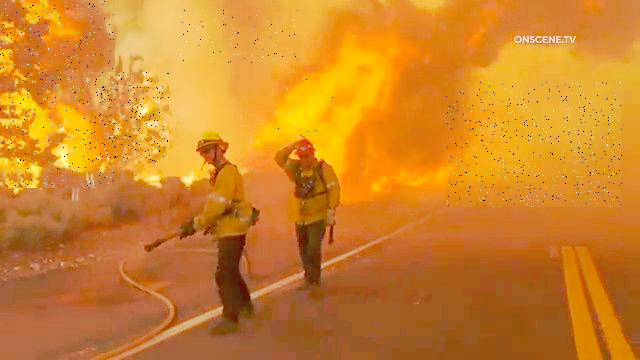fire: (0, 0, 115, 188), (83, 72, 169, 163), (279, 74, 346, 139)
smoke: (447, 82, 624, 207), (179, 9, 301, 65)
